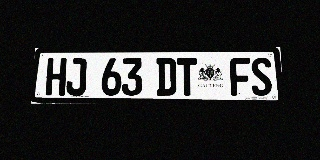3: (122, 58, 142, 96)
6: (101, 58, 122, 96)
D: (156, 58, 176, 96)
F: (230, 58, 251, 96)
H: (45, 58, 67, 96)
J: (66, 58, 87, 96)
S: (250, 58, 273, 96)
T: (177, 58, 197, 96)
